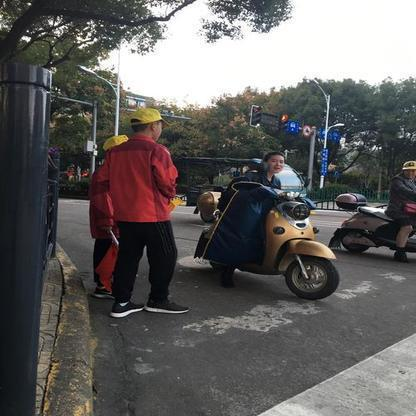target: (191, 151, 341, 301)
